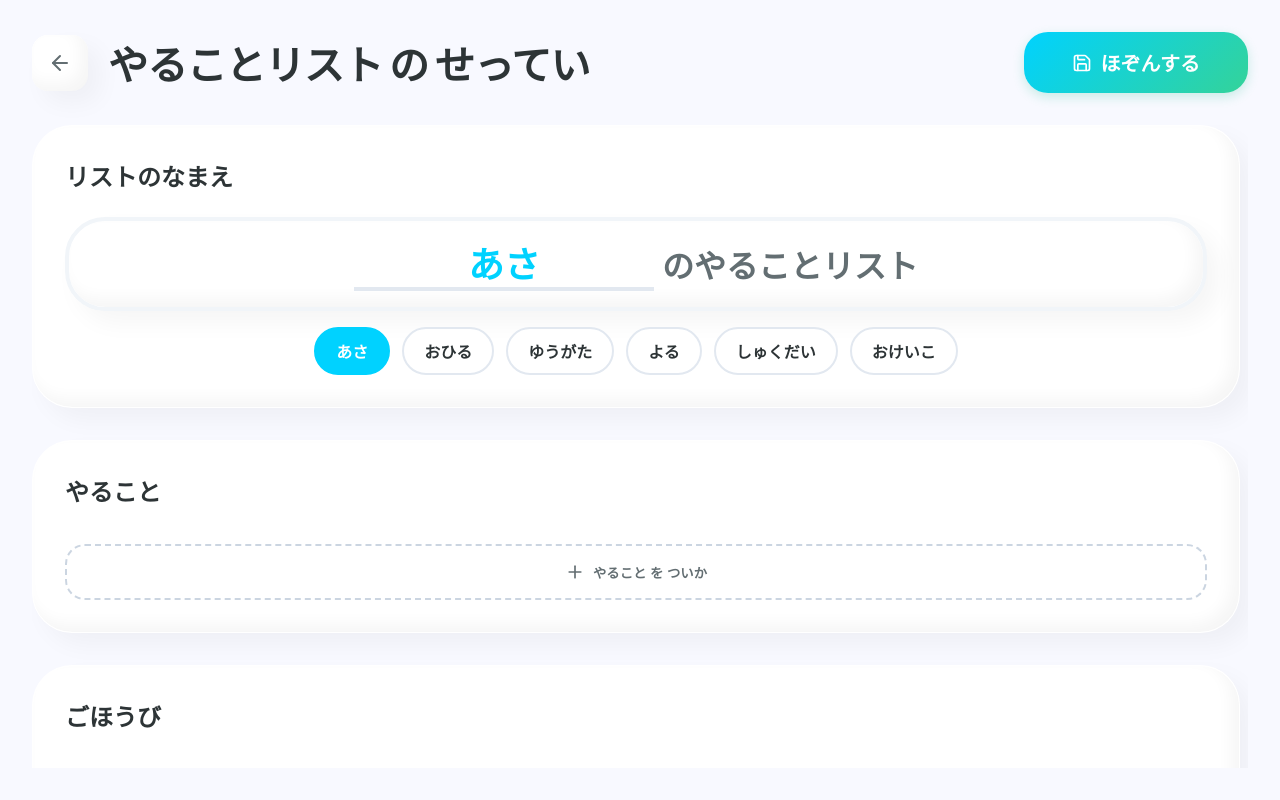
Test: TodoListSettings › 戻るボタンの確認ダイアログ › 変更がある場合、確認ダイアログを表示すること
Click the button "やること を ついか" at (636, 572), box x1=65 y1=544 x2=1207 y2=600
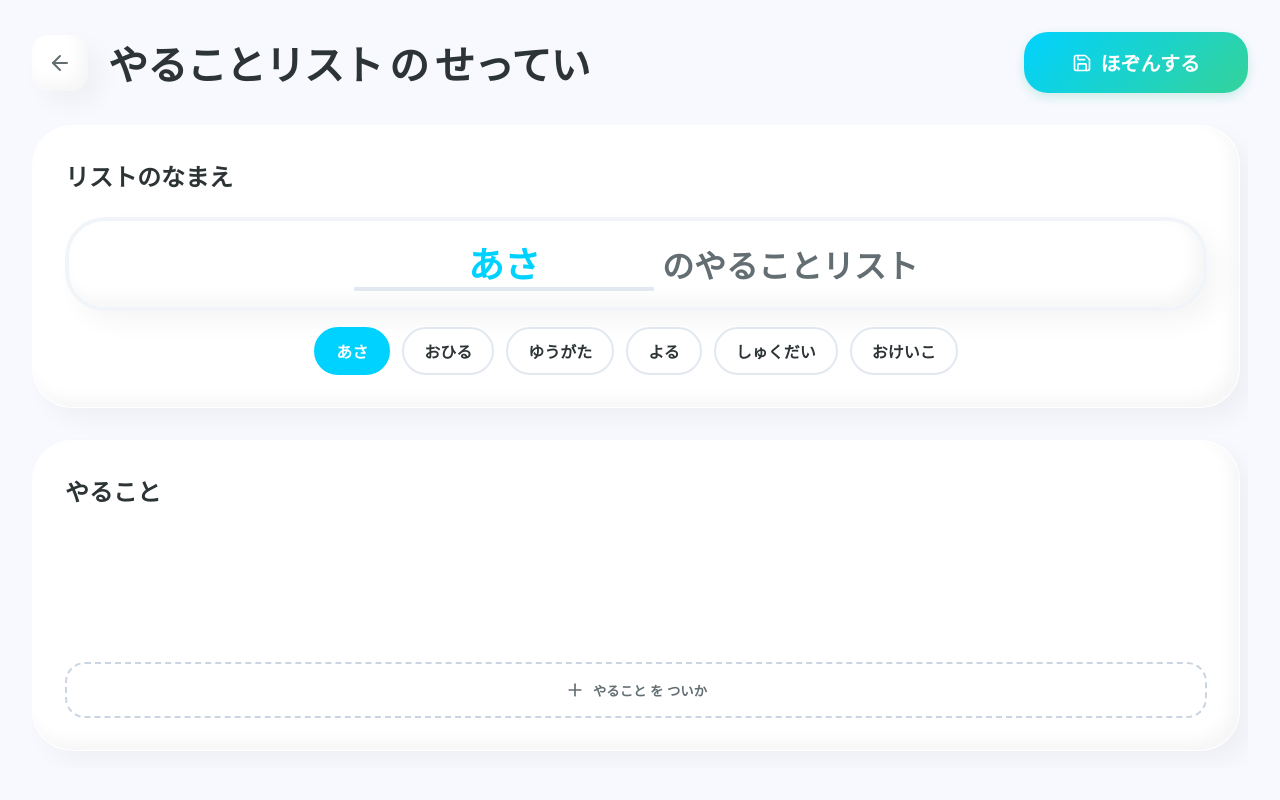
Click the 1st button at (60, 62), box x1=32 y1=34 x2=88 y2=90
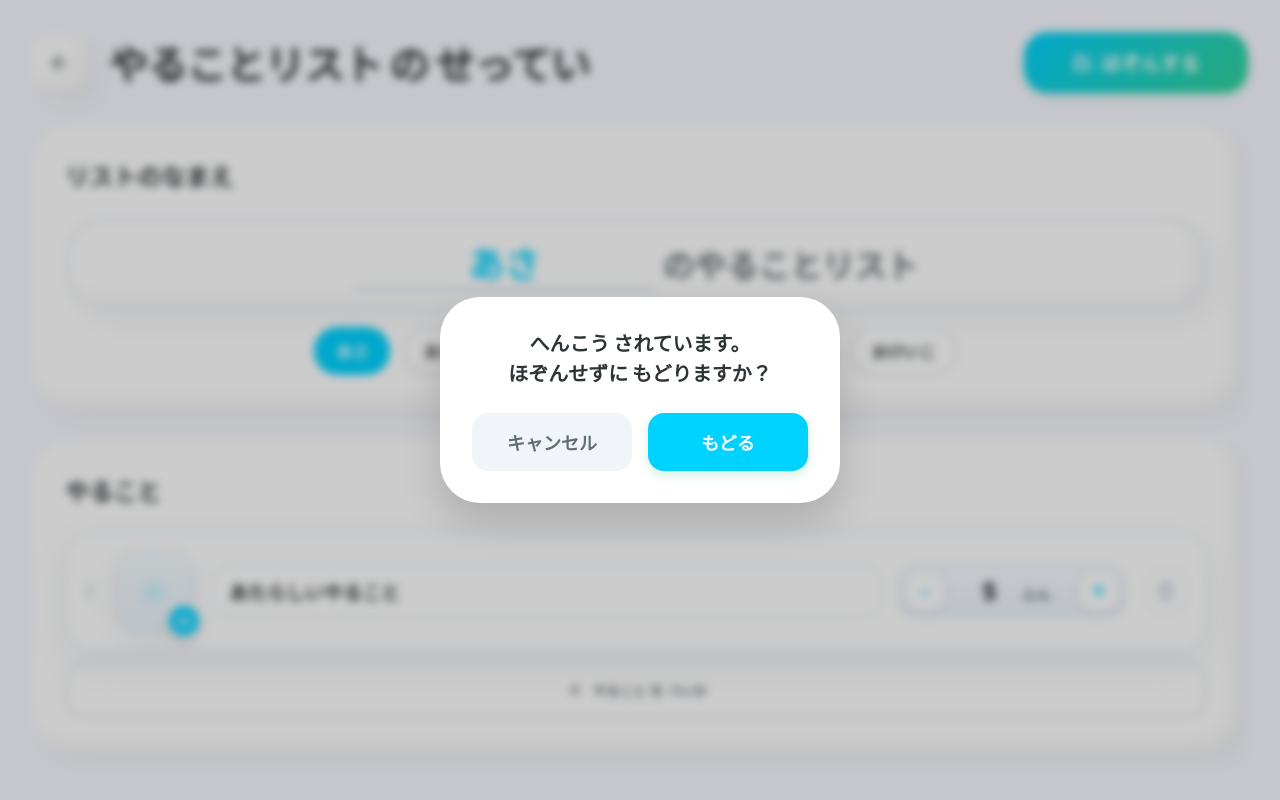
Check: the text "へんこう されています。ほぞんせずに もどりますか？" is shown, box x1=508 y1=331 x2=772 y2=386
Check: the button "もどる" is shown, box x1=648 y1=413 x2=808 y2=471
Check: the button "キャンセル" is shown, box x1=472 y1=413 x2=632 y2=471
